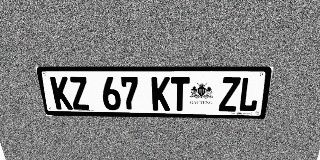6: (100, 77, 121, 110)
7: (119, 77, 139, 110)
K: (50, 77, 73, 110), (151, 77, 170, 111)
L: (237, 77, 261, 112)
T: (171, 77, 190, 111)
Z: (218, 77, 241, 112), (68, 77, 90, 110)
